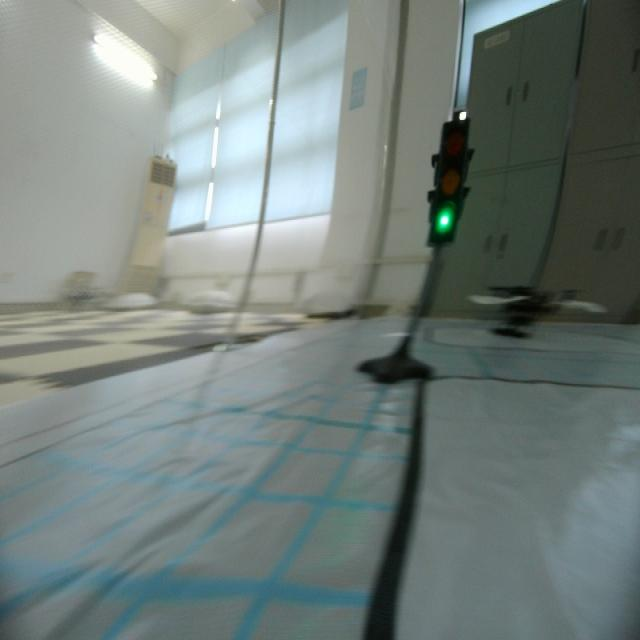green: (428, 115, 472, 254)
